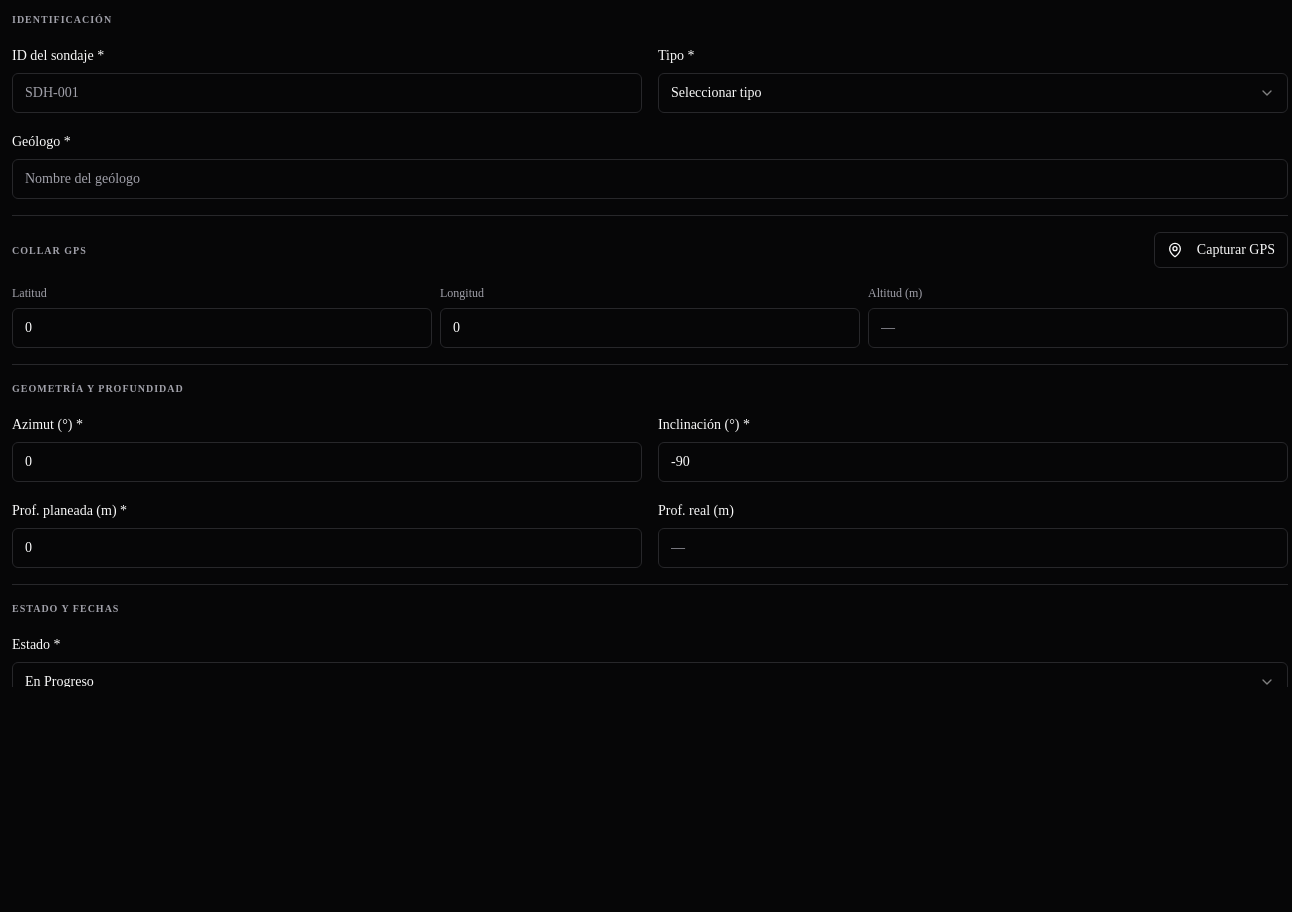
Test case: DrillHoleForm › GPS capture populates lat/lon
Click the button "Capturar GPS" at (1221, 250), box [1154, 232, 1288, 268]
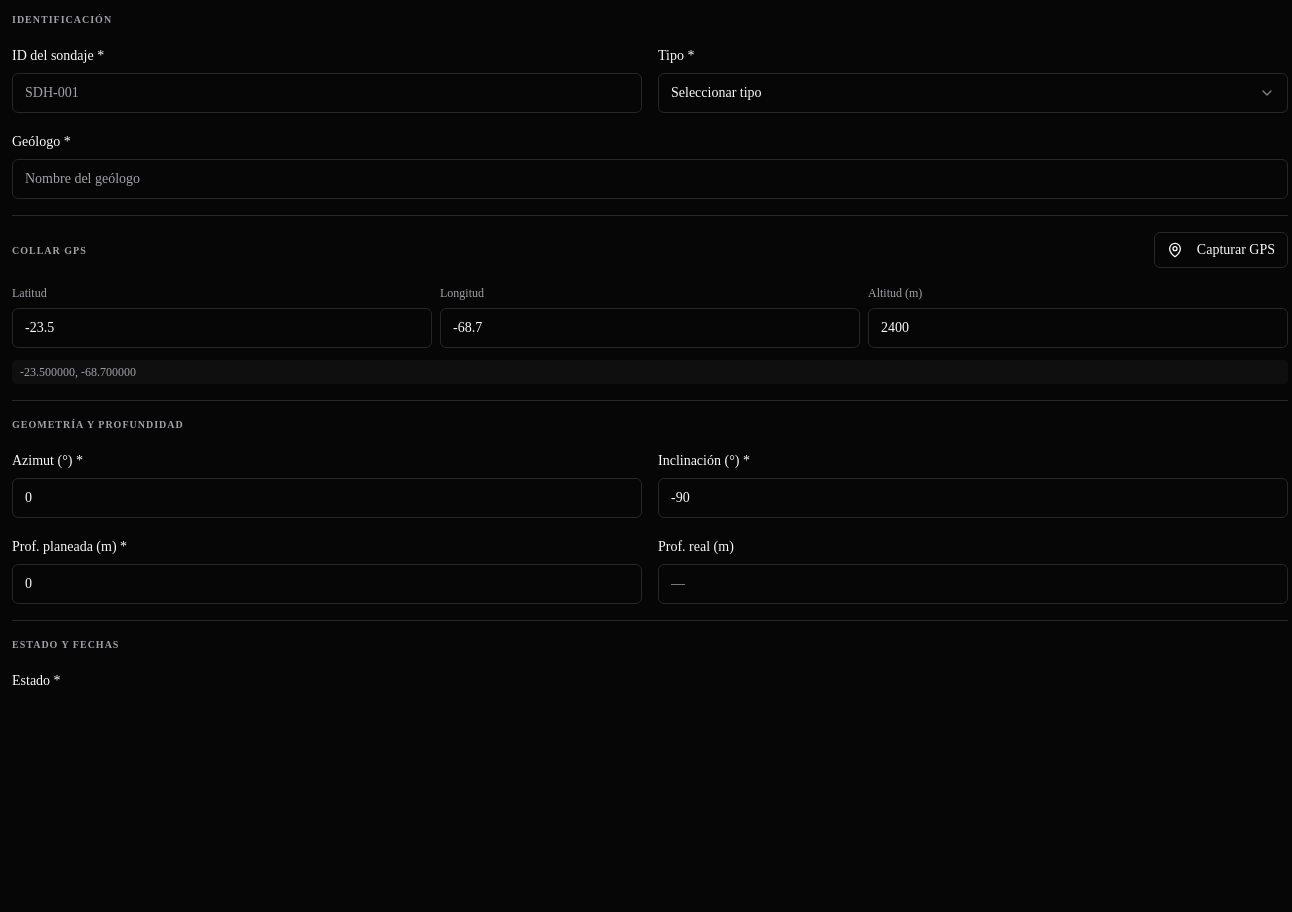
Check: the text "-23.500000, -68.700000" is shown, box [12, 360, 1288, 384]
